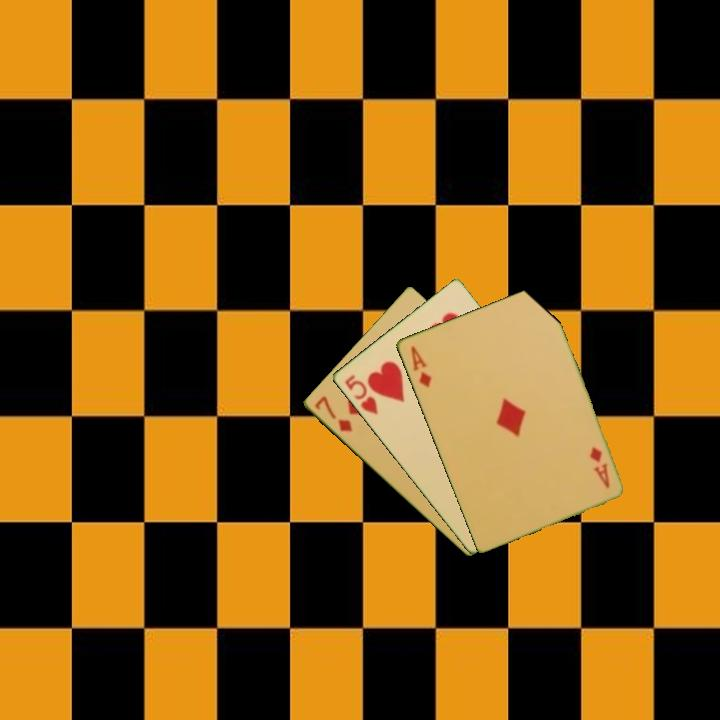5h: (340, 371, 380, 418)
7d: (311, 392, 355, 435)
Ad: (407, 342, 434, 390), (586, 443, 612, 491)
